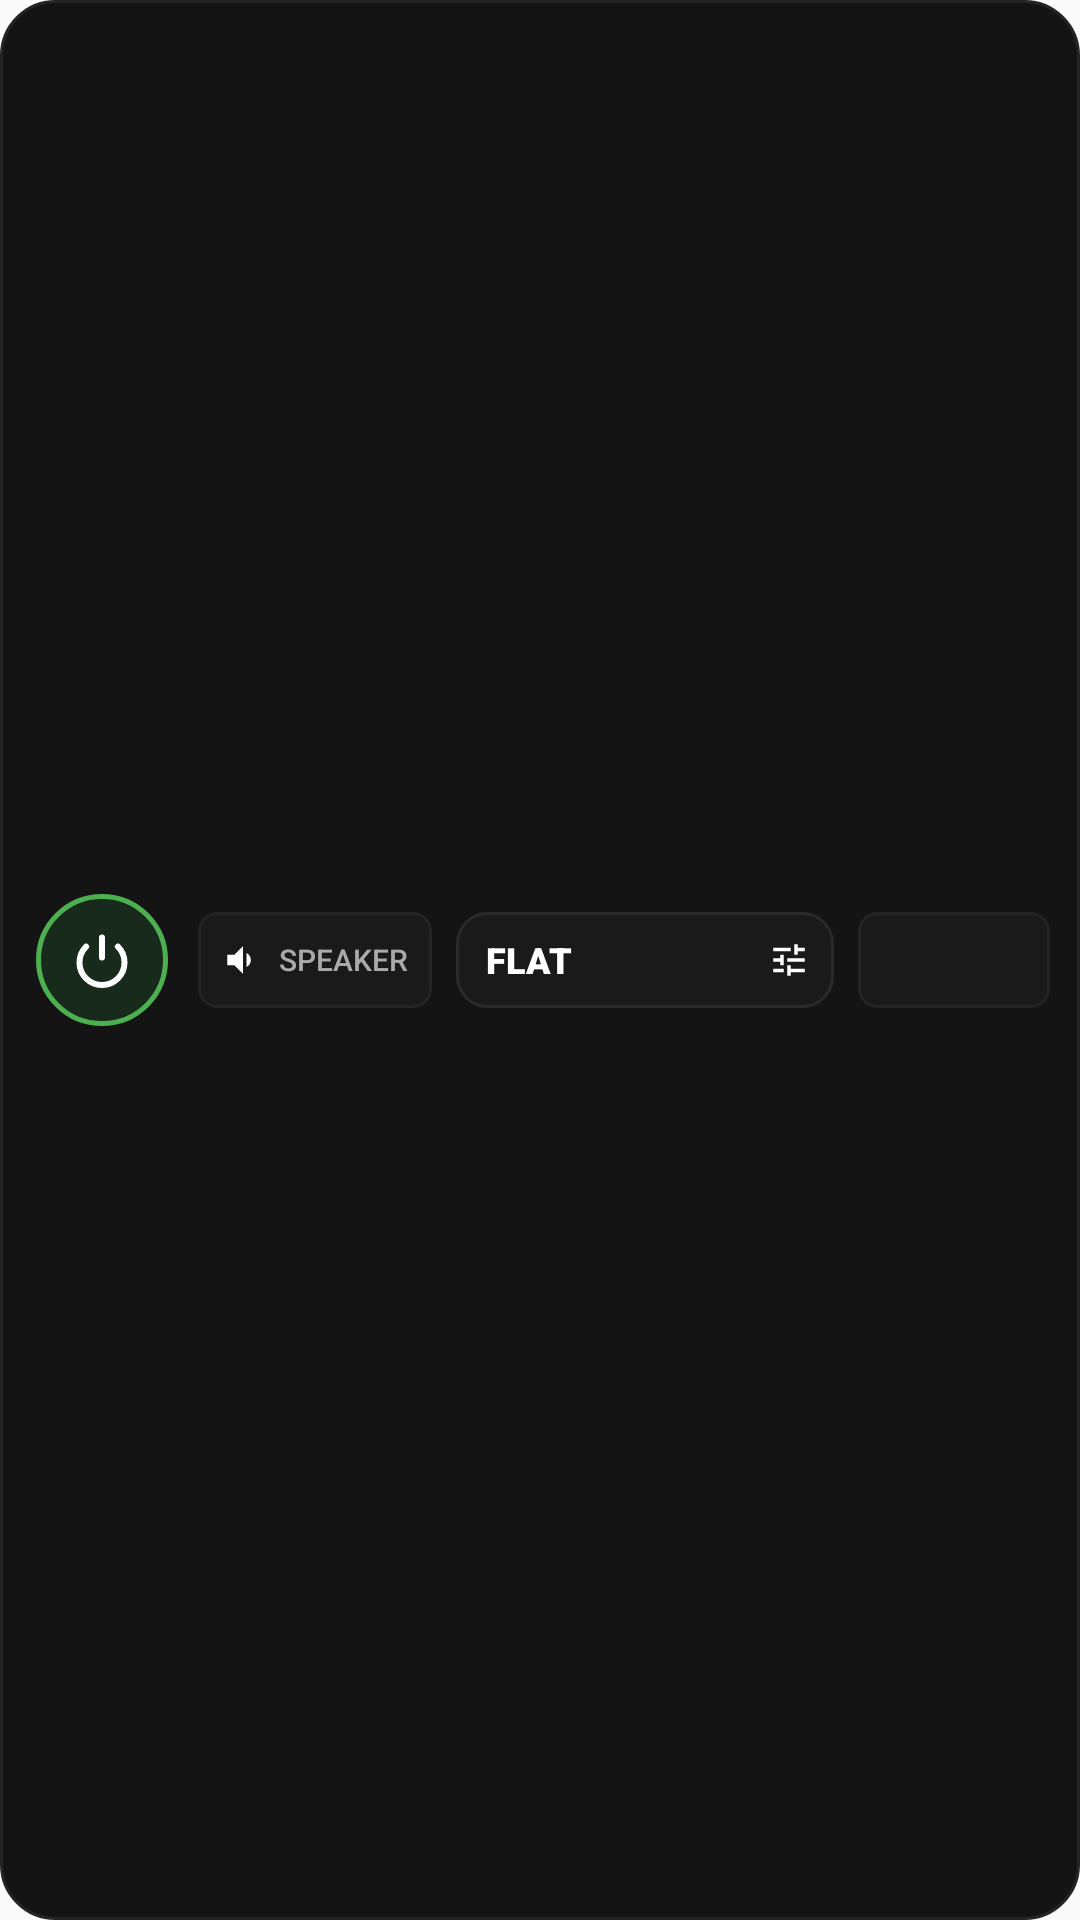

Screen size 1080x1920. Icon name, then its center in pixels as (x=x, y=y):
Power: (x=102, y=961)
Select preset: (x=789, y=960)
